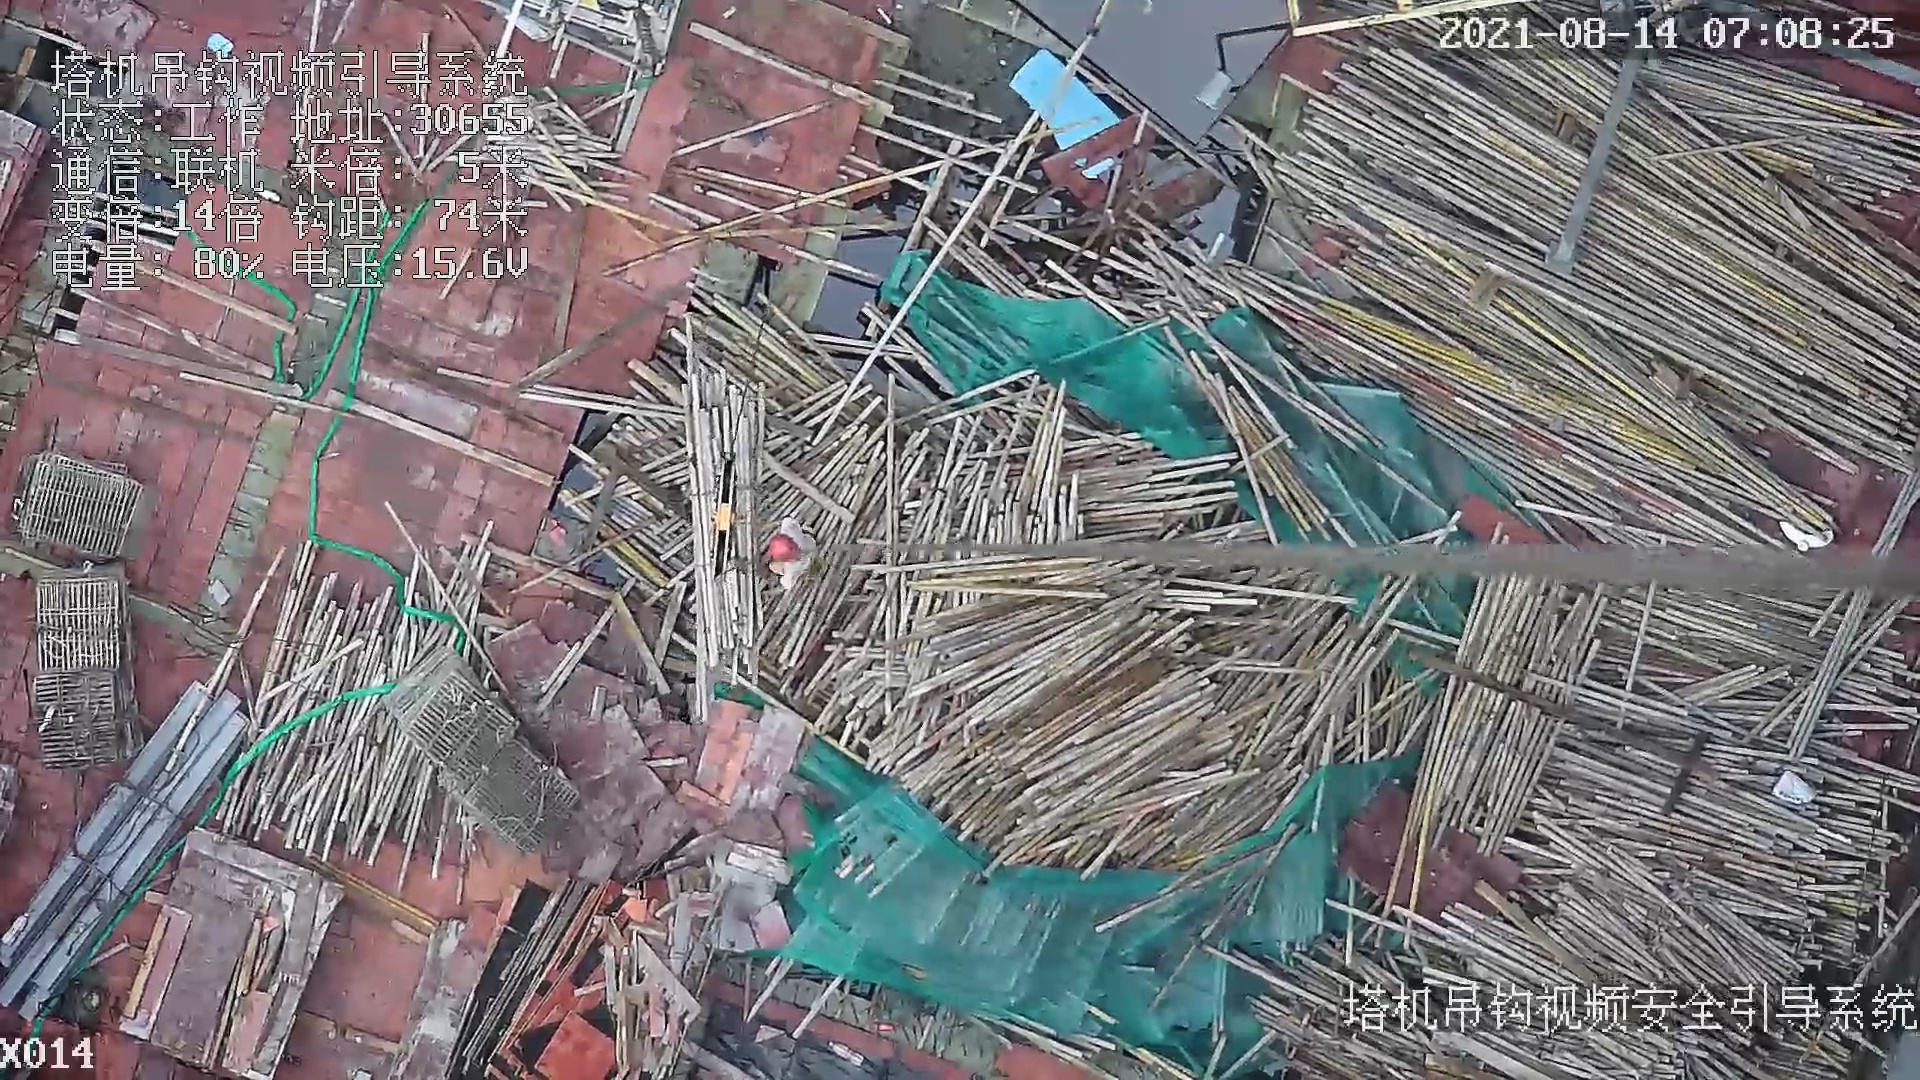helmet: (767, 534, 799, 563)
hook: (709, 451, 740, 582)
person: (768, 519, 813, 586)
